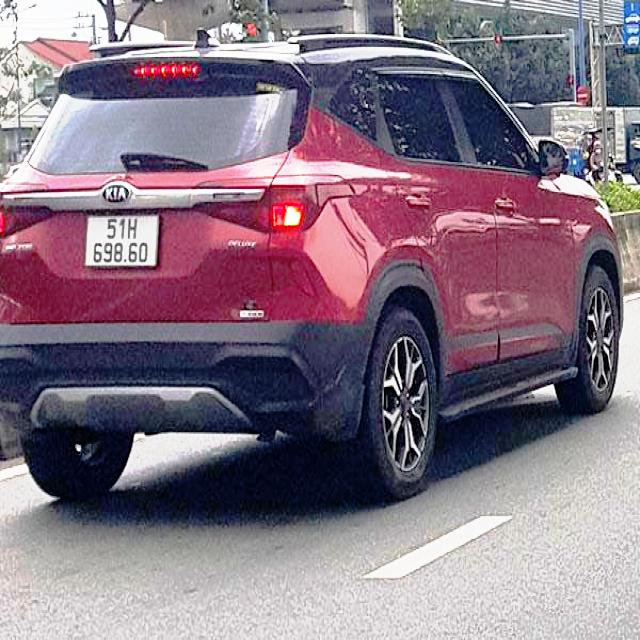license_plate: (87, 215, 159, 268)
